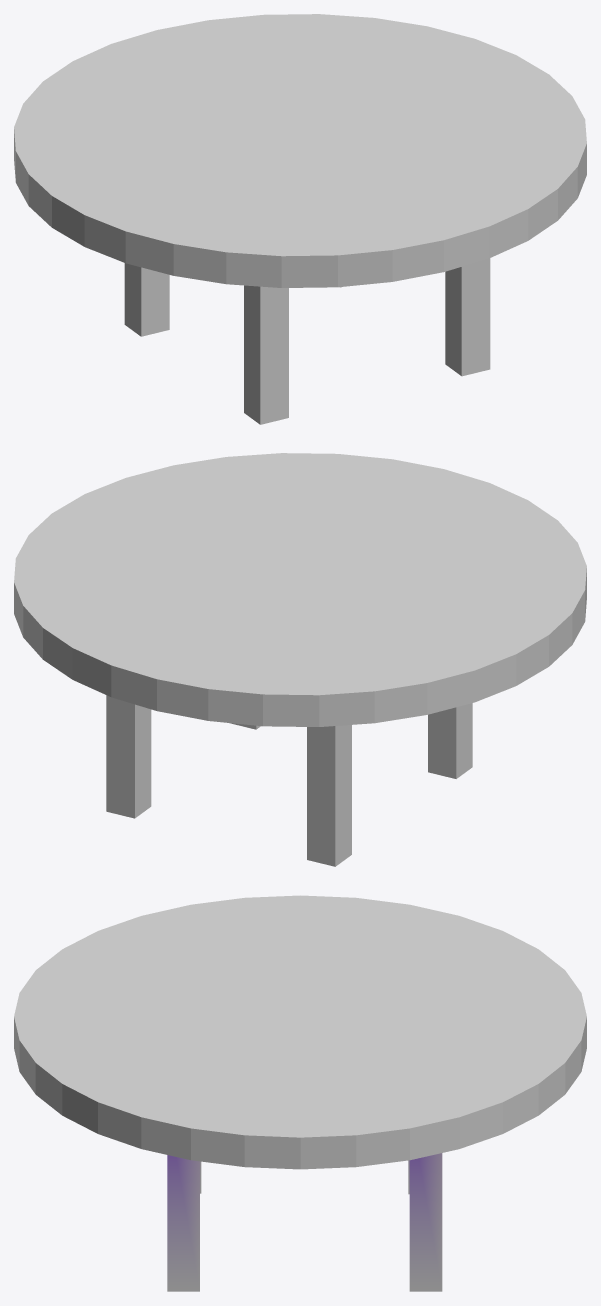
Rendered from table.fbx.
The picture shows the model from 3 angles, top to bottom: view 1: azimuth 30°, elevation 25°; view 2: azimuth 150°, elevation 25°; view 3: azimuth 270°, elevation 25°; orthographic projection.
Visible parts, largest first — view 1: Cube; view 2: Cube; view 3: Cube.
Part boxes in pixels (left/top/right/bottom): Cube: left=14, top=14, right=586, bottom=424; Cube: left=14, top=453, right=586, bottom=866; Cube: left=14, top=895, right=586, bottom=1291.
Size of the model in its own units: 379 by 157 by 379.
